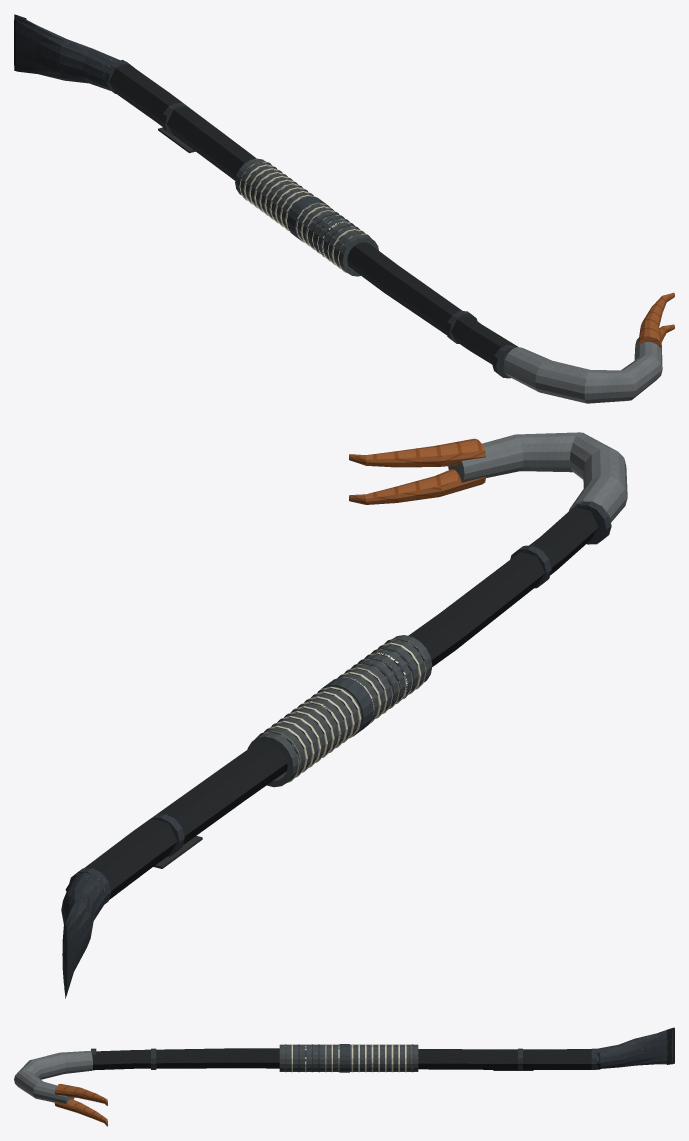
The model's file is PZ_TOOL_02_Forged_Steel_Crowbar.glb.
3 renders of one model, top to bottom at view 1: azimuth 30°, elevation 25°; view 2: azimuth 150°, elevation 25°; view 3: azimuth 270°, elevation 25°, orthographic. The views are drawn at different scales.
Visible parts, largest first — view 1: CROWBAR_Bar_Forged_Hex_SolidShank, CROWBAR_Gooseneck_Curved_HookBody, CROWBAR_Handgrip_SlipResistant_RubberSleeve, CROWBAR_Tail_Flattened_Angled_Chisel_PryTip, CROWBAR_Handgrip_Embossed_Ridges_20, CROWBAR_Gooseneck_RIGHT_FlattenedNailClaw; view 2: CROWBAR_Bar_Forged_Hex_SolidShank, CROWBAR_Gooseneck_Curved_HookBody, CROWBAR_Handgrip_SlipResistant_RubberSleeve, CROWBAR_Handgrip_Embossed_Ridges_20, CROWBAR_Tail_Flattened_Angled_Chisel_PryTip, CROWBAR_Gooseneck_RIGHT_FlattenedNailClaw, CROWBAR_Gooseneck_LEFT_FlattenedNailClaw, CROWBAR_Grip_SafetyOrange_CenterCollar; view 3: CROWBAR_Bar_Forged_Hex_SolidShank, CROWBAR_Handgrip_SlipResistant_RubberSleeve, CROWBAR_Gooseneck_Curved_HookBody, CROWBAR_Tail_Flattened_Angled_Chisel_PryTip, CROWBAR_Handgrip_Embossed_Ridges_20, CROWBAR_Gooseneck_RIGHT_FlattenedNailClaw, CROWBAR_Gooseneck_LEFT_FlattenedNailClaw, CROWBAR_Grip_SafetyOrange_CenterCollar, CROWBAR_Chisel_BrightGroundEdge.
Boxes of the visible parts, x1,y1,x2,y2 form: CROWBAR_Bar_Forged_Hex_SolidShank: [109, 60, 517, 365]; CROWBAR_Gooseneck_Curved_HookBody: [503, 338, 662, 403]; CROWBAR_Handgrip_SlipResistant_RubberSleeve: [235, 158, 378, 276]; CROWBAR_Tail_Flattened_Angled_Chisel_PryTip: [16, 15, 120, 90]; CROWBAR_Handgrip_Embossed_Ridges_20: [238, 160, 371, 272]; CROWBAR_Gooseneck_RIGHT_FlattenedNailClaw: [638, 292, 674, 348]; CROWBAR_Bar_Forged_Hex_SolidShank: [65, 503, 598, 899]; CROWBAR_Gooseneck_Curved_HookBody: [448, 432, 627, 522]; CROWBAR_Handgrip_SlipResistant_RubberSleeve: [247, 635, 432, 787]; CROWBAR_Handgrip_Embossed_Ridges_20: [255, 637, 427, 782]; CROWBAR_Tail_Flattened_Angled_Chisel_PryTip: [61, 872, 106, 996]; CROWBAR_Gooseneck_RIGHT_FlattenedNailClaw: [349, 438, 485, 467]; CROWBAR_Gooseneck_LEFT_FlattenedNailClaw: [349, 469, 485, 504]; CROWBAR_Grip_SafetyOrange_CenterCollar: [318, 677, 373, 736]; CROWBAR_Bar_Forged_Hex_SolidShank: [92, 1048, 600, 1070]; CROWBAR_Handgrip_SlipResistant_RubberSleeve: [279, 1044, 418, 1071]; CROWBAR_Gooseneck_Curved_HookBody: [14, 1050, 92, 1104]; CROWBAR_Tail_Flattened_Angled_Chisel_PryTip: [596, 1028, 673, 1068]; CROWBAR_Handgrip_Embossed_Ridges_20: [285, 1044, 413, 1072]; CROWBAR_Gooseneck_RIGHT_FlattenedNailClaw: [54, 1084, 107, 1105]; CROWBAR_Gooseneck_LEFT_FlattenedNailClaw: [54, 1099, 107, 1126]; CROWBAR_Grip_SafetyOrange_CenterCollar: [339, 1044, 349, 1072]; CROWBAR_Chisel_BrightGroundEdge: [667, 1027, 674, 1064].
Bounding box in the file's own units: 0.1917 × 0.0468 × 0.7712.
1 material, 1 textured.
